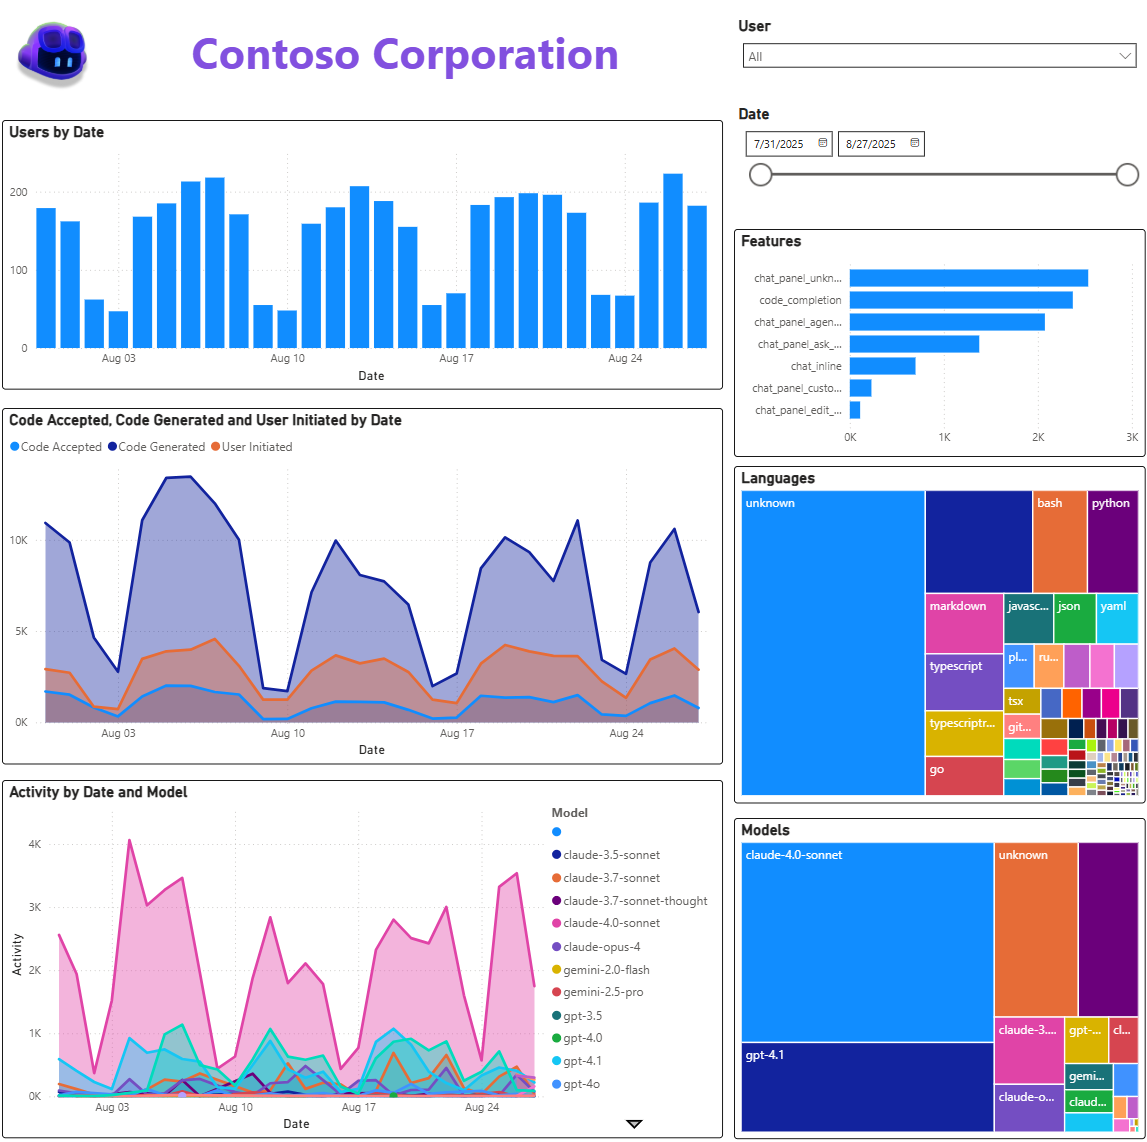

What the dashboard file says about the page in this screenshot:
{"tool":"powerbi","page":{"name":"Dashboard","canvas":[1280,1280],"ordinal":0},"visuals":[{"type":"slicer","title":"User","fields":{"Values":["summary.user_login"]},"box":[819.6,31.9,455.1,85.2],"z":0},{"type":"slicer","title":"Date","fields":{"Values":["summary.day"]},"box":[819.6,129.1,455.1,110.4],"z":1000},{"type":"barChart","title":"Features","fields":{"Category":["feature.totals_by_feature.feature"],"Y":["CountNonNull(feature.totals_by_feature.feature)"]},"box":[819.9,266.1,454.8,251.8],"z":2000},{"type":"treemap","title":"Languages","fields":{"Group":["language_model.totals_by_language_model.language"],"Values":["CountNonNull(language_model.totals_by_language_model.language)"]},"box":[819.6,528.2,455.1,372.6],"z":3000},{"type":"treemap","title":"Models","fields":{"Group":["language_model.totals_by_language_model.model"],"Values":["CountNonNull(language_model.totals_by_language_model.language)"]},"box":[819.9,916.9,455.1,355.3],"z":4000},{"type":"areaChart","fields":{"Y":["Sum(summary.code_acceptance_activity_count)","Sum(summary.code_generation_activity_count)","Sum(summary.user_initiated_interaction_count)"],"Category":["summary.day"]},"box":[10.6,464.4,797,393.8],"z":5000},{"type":"columnChart","title":"Users by Date","fields":{"Category":["summary.day"],"Y":["Count(summary.user_id)"]},"box":[10.6,146.4,797,298],"z":6000},{"type":"areaChart","fields":{"Category":["model_feature.day"],"Series":["model_feature.totals_by_model_feature.model"],"Y":["Sum(model_feature.totals_by_model_feature.code_generation_activity_count)"]},"box":[10.7,875.9,797.5,395.8],"z":7000},{"type":"image","box":[16,25.3,101.1,97.1],"z":8000},{"type":"textbox","box":[117.1,31.9,679.9,85.2],"z":9000}]}

Visuals, with their boxes in screenshot pixels (x1, y1, x2, y2), scaled from the page's 1280x1280 canvas onto the 1147x1142 screenshot:
"User" slicer: 734 28 1142 104
"Date" slicer: 734 115 1142 214
"Features" barChart: 735 237 1142 462
"Languages" treemap: 734 471 1142 804
"Models" treemap: 735 818 1143 1135
areaChart - Sum(summary.code_acceptance_activity_count) x Sum(summary.code_generation_activity_count): 9 414 724 766
"Users by Date" columnChart: 9 131 724 396
areaChart - model_feature.day x model_feature.totals_by_model_feature.model: 10 781 724 1135
image: 14 23 105 109
textbox: 105 28 714 104
